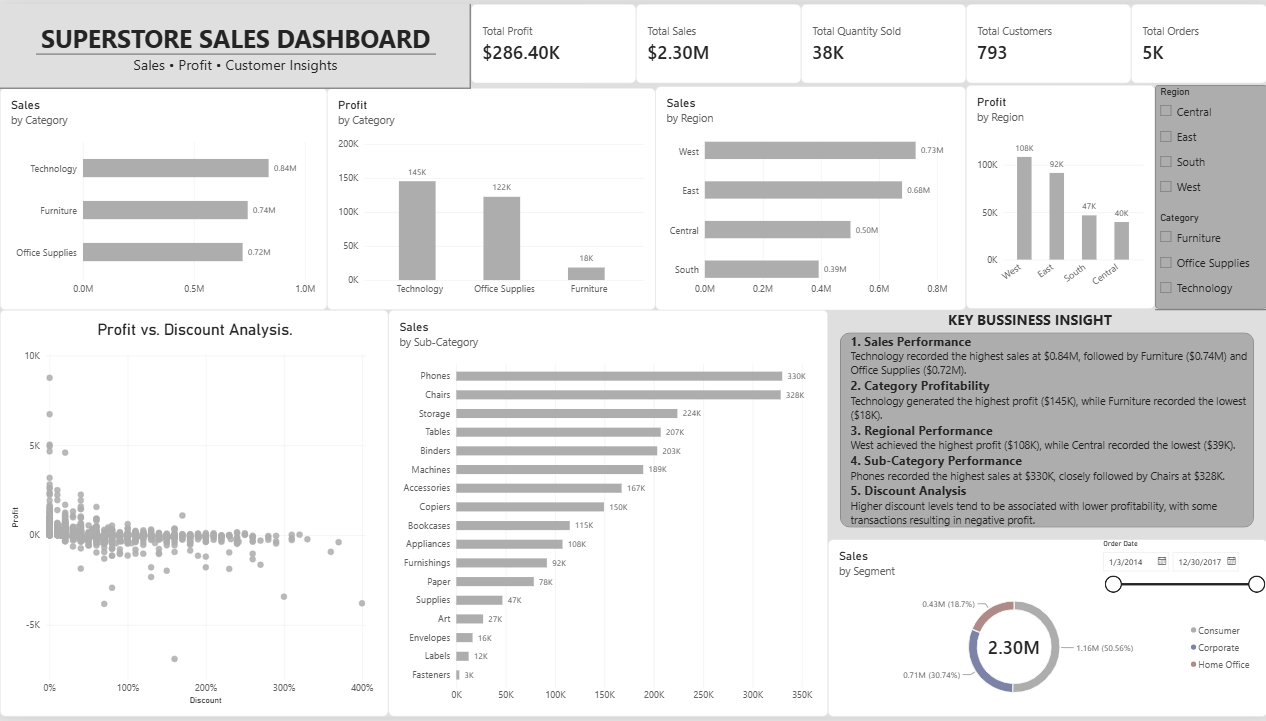

Layout of this report page (visuals, bound fields, positions):
{"tool":"powerbi","page":{"name":"Page 1","canvas":[1920,1080],"ordinal":0},"visuals":[{"type":"shape","box":[1750,123.8,170,338.8],"z":0},{"type":"shape","box":[1271.9,497.4,626.9,295.3],"z":1000},{"type":"cardVisual","fields":{"Data":["Sample - Superstore.Total Sales"]},"box":[963,0,250,120.4],"z":2000},{"type":"cardVisual","fields":{"Data":["Sample - Superstore.Total Profit"]},"box":[713.2,0,250,120.4],"z":3000},{"type":"cardVisual","fields":{"Data":["Sample - Superstore.Total Orders"]},"box":[1712.6,0,206.7,120.4],"z":4000},{"type":"cardVisual","fields":{"Data":["Sample - Superstore.Total Customers"]},"box":[1462.7,0,250,120.4],"z":5000},{"type":"cardVisual","fields":{"Data":["Sample - Superstore.Total Quantity Sold"]},"box":[1212.9,0,250,120.4],"z":6000},{"type":"clusteredBarChart","title":"Sales","fields":{"Category":["Sample - Superstore.Category"],"Y":["Sum(Sample - Superstore.Sales)"]},"box":[0,127.2,495.1,336.2],"z":7000},{"type":"clusteredColumnChart","title":"Profit","fields":{"Category":["Sample - Superstore.Category"],"Y":["Sum(Sample - Superstore.Profit)"]},"box":[495.1,127.2,497.4,336.2],"z":8000},{"type":"clusteredBarChart","title":"Sales","fields":{"Category":["Sample - Superstore.Region"],"Y":["Sum(Sample - Superstore.Sales)"]},"box":[992.6,124.9,470.2,338.4],"z":9000},{"type":"donutChart","title":"Sales","fields":{"Category":["Sample - Superstore.Segment"],"Y":["Sum(Sample - Superstore.Sales)"]},"box":[1253.8,810.9,665.5,268],"z":10000},{"type":"clusteredColumnChart","title":"Profit","fields":{"Category":["Sample - Superstore.Region"],"Y":["Sum(Sample - Superstore.Profit)"]},"box":[1462.5,123.8,286.2,338.8],"z":11000},{"type":"clusteredBarChart","title":"Sales","fields":{"Category":["Sample - Superstore.Sub-Category"],"Y":["Sum(Sample - Superstore.Sales)"]},"box":[588.3,463.3,665.5,615.5],"z":12000},{"type":"scatterChart","title":"Profit vs. Discount Analysis.","fields":{"Category":["Sample - Superstore.Order ID"],"X":["Sum(Sample - Superstore.Discount)"],"Y":["Sum(Sample - Superstore.Profit)"]},"box":[0,463.3,588.3,615.5],"z":13000},{"type":"textbox","box":[0,27.3,713.2,99.9],"z":14000},{"type":"slicer","fields":{"Values":["Sample - Superstore.Region"]},"box":[1748.4,123.9,170.7,176.2],"z":15000},{"type":"slicer","fields":{"Values":["Sample - Superstore.Order Date"]},"box":[1662.6,810.9,256.7,93.1],"z":16000},{"type":"slicer","fields":{"Values":["Sample - Superstore.Category"]},"box":[1748.4,316.6,170.7,156.9],"z":17000},{"type":"shape","box":[54.5,31.8,605.7,88.1],"z":18000},{"type":"shape","box":[0,47.7,713.1,159.7],"z":19000},{"type":"shape","box":[540.6,0,343,127.2],"z":20000},{"type":"shape","box":[1748.4,388.2,170.7,148.7],"z":21000},{"type":"textbox","box":[1287.8,497.4,611,295.3],"z":22000},{"type":"textbox","box":[1435.5,463.3,483.8,34.1],"z":23000}]}

Visuals, with their boxes in screenshot pixels (x1, y1, x2, y2), scaled from the page's 1920x1080 canvas onto the 1266x721 screenshot:
shape: locate(1154, 83, 1265, 309)
shape: locate(839, 332, 1252, 529)
cardVisual - Sample - Superstore.Total Sales: locate(635, 0, 800, 80)
cardVisual - Sample - Superstore.Total Profit: locate(470, 0, 635, 80)
cardVisual - Sample - Superstore.Total Orders: locate(1129, 0, 1265, 80)
cardVisual - Sample - Superstore.Total Customers: locate(964, 0, 1129, 80)
cardVisual - Sample - Superstore.Total Quantity Sold: locate(800, 0, 965, 80)
"Sales" clusteredBarChart: locate(0, 85, 326, 309)
"Profit" clusteredColumnChart: locate(326, 85, 654, 309)
"Sales" clusteredBarChart: locate(654, 83, 965, 309)
"Sales" donutChart: locate(827, 541, 1265, 720)
"Profit" clusteredColumnChart: locate(964, 83, 1153, 309)
"Sales" clusteredBarChart: locate(388, 309, 827, 720)
"Profit vs. Discount Analysis." scatterChart: locate(0, 309, 388, 720)
textbox: locate(0, 18, 470, 85)
slicer - Sample - Superstore.Region: locate(1153, 83, 1265, 200)
slicer - Sample - Superstore.Order Date: locate(1096, 541, 1265, 604)
slicer - Sample - Superstore.Category: locate(1153, 211, 1265, 316)
shape: locate(36, 21, 435, 80)
shape: locate(0, 32, 470, 138)
shape: locate(356, 0, 583, 85)
shape: locate(1153, 259, 1265, 358)
textbox: locate(849, 332, 1252, 529)
textbox: locate(947, 309, 1265, 332)
